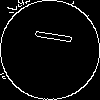I: (25, 25, 73, 47)
